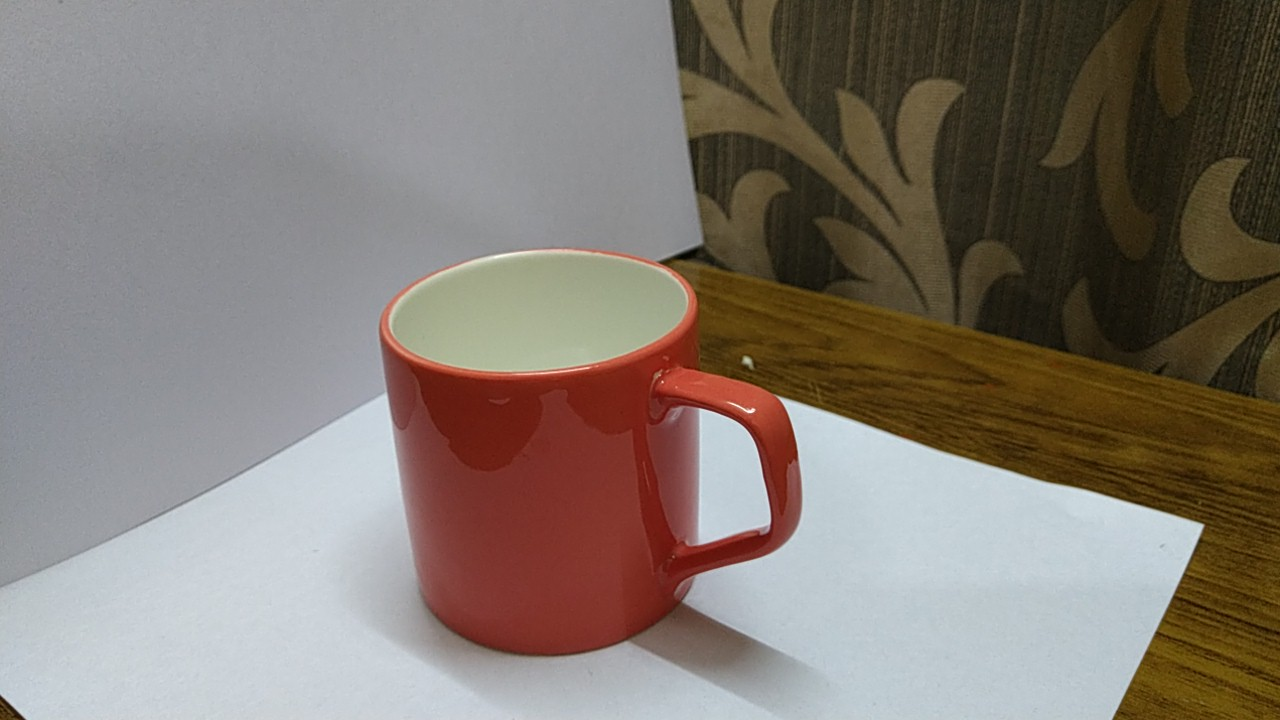cup: (359, 243, 821, 685)
